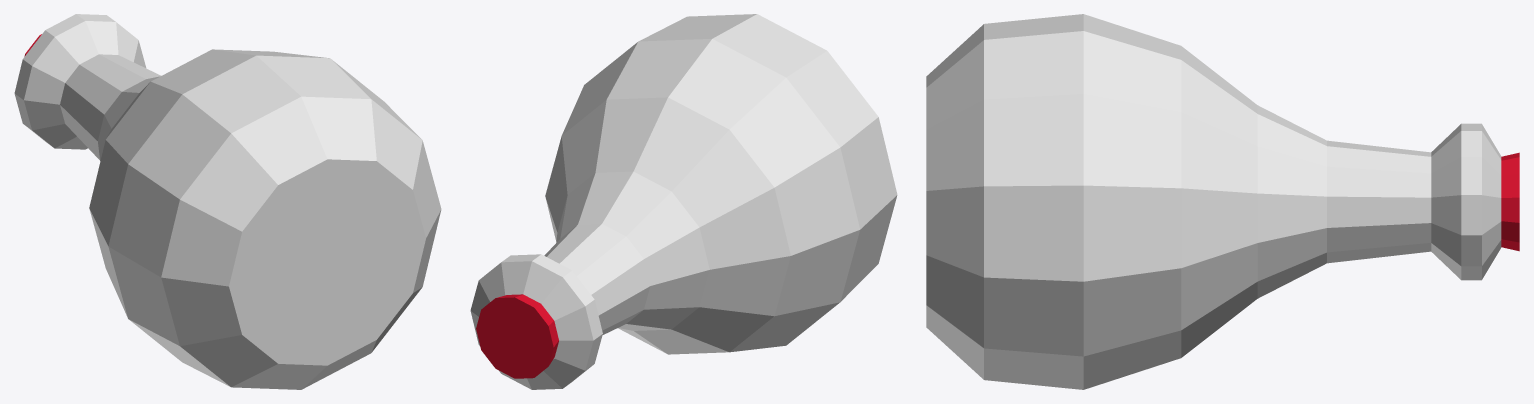
Rendered from potion5.fbx.
The picture shows the model from 3 angles, left to right: view 1: azimuth 30°, elevation 25°; view 2: azimuth 150°, elevation 25°; view 3: azimuth 270°, elevation 25°; orthographic projection. The views are drawn at different scales.
Parts seen in each view (by area): view 1: Liquid; view 2: Liquid; view 3: Liquid.
Boxes of the visible parts, x1=… form: Liquid: x1=14, y1=14, x2=441, y2=389; Liquid: x1=470, y1=14, x2=897, y2=389; Liquid: x1=926, y1=14, x2=1519, y2=389.
Size of the model in its own units: 211 by 211 by 332.
